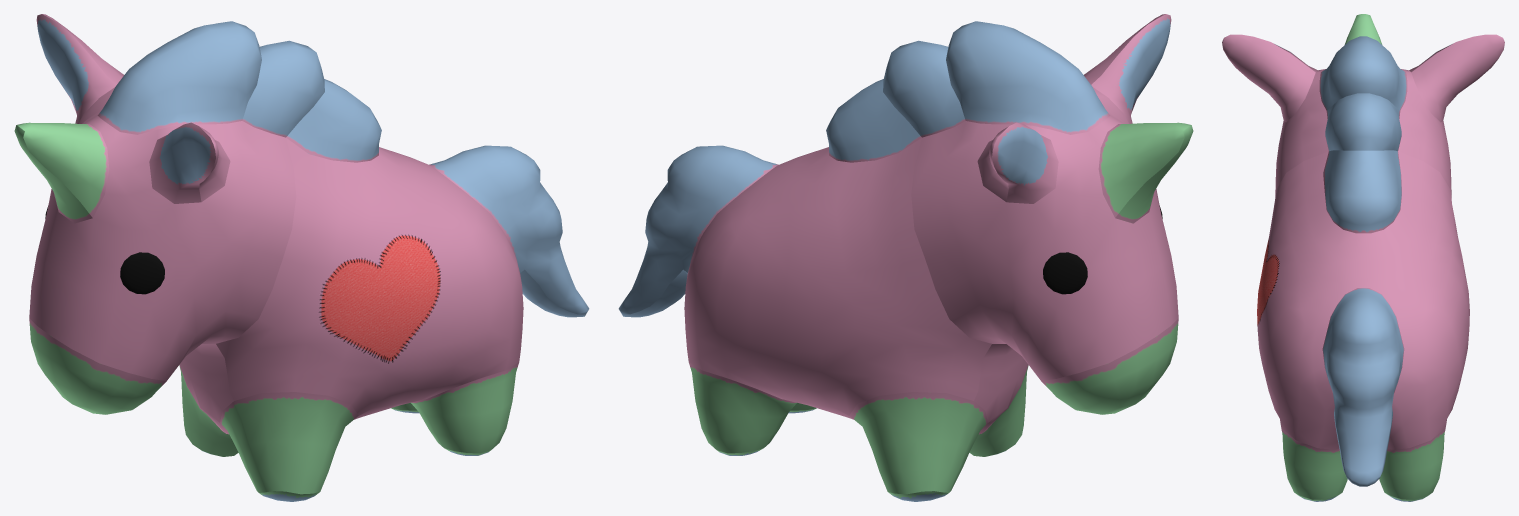
File: plush_unicorn.glb
3 views of the same model, side by side, from view 1: azimuth 30°, elevation 25°; view 2: azimuth 150°, elevation 25°; view 3: azimuth 270°, elevation 25° (orthographic). The views are drawn at different scales.
Visible parts, largest first — view 1: Plush Unicorn; view 2: Plush Unicorn; view 3: Plush Unicorn.
Boxes of the visible parts, x1=… form: Plush Unicorn: x1=14, y1=14, x2=589, y2=501; Plush Unicorn: x1=618, y1=14, x2=1193, y2=501; Plush Unicorn: x1=1222, y1=14, x2=1504, y2=501.
Size of the model in its own units: 0.4233 by 0.3262 by 0.2304.
Materials: 1 (1 with a texture image).
